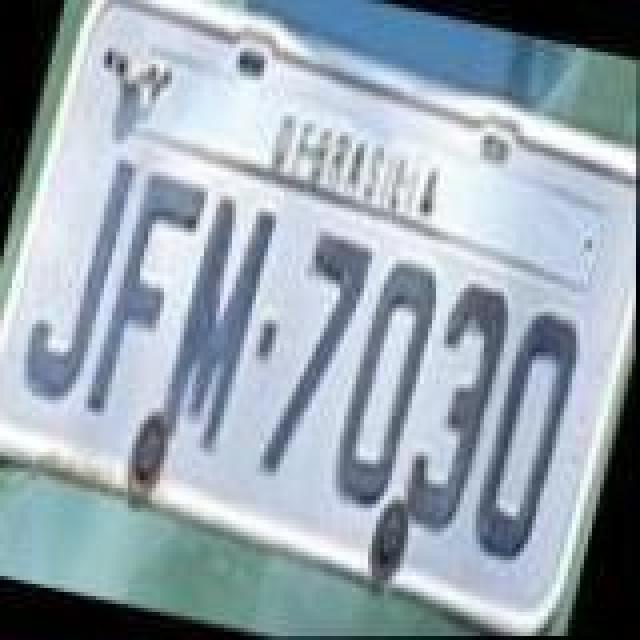3: (398, 278, 522, 542)
7: (256, 230, 376, 486)
F: (84, 166, 212, 426)
J: (12, 148, 140, 412)
M: (156, 190, 284, 446)
O: (466, 302, 594, 570), (326, 250, 450, 514)
